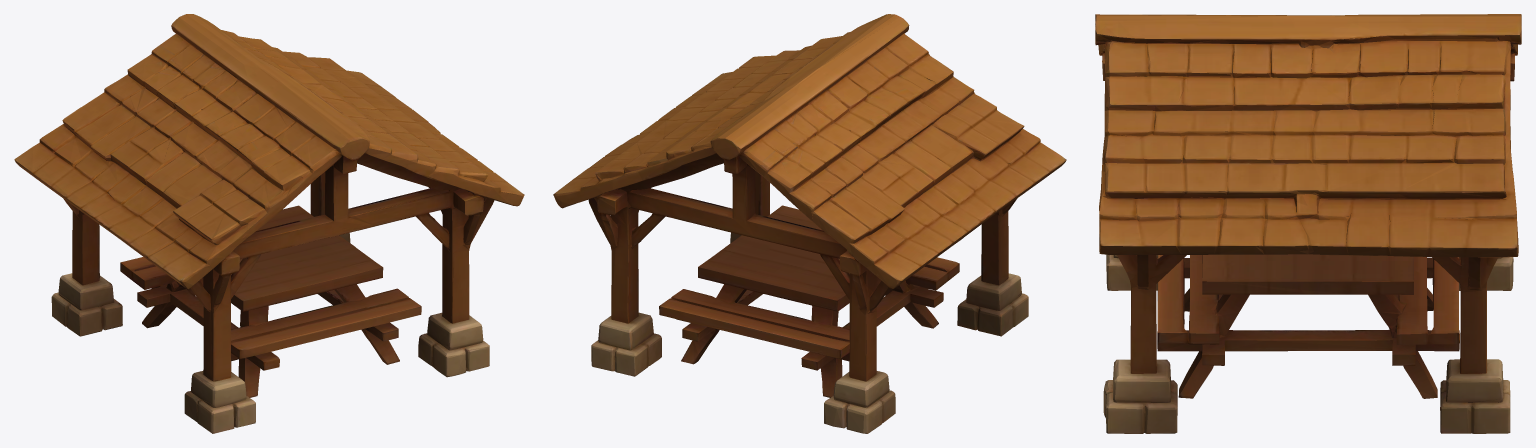
The model's file is picnic_shelter.glb.
The picture shows the model from 3 angles, left to right: view 1: azimuth 30°, elevation 25°; view 2: azimuth 150°, elevation 25°; view 3: azimuth 270°, elevation 25°; orthographic projection. The views are drawn at different scales.
Visible parts, largest first — view 1: world; view 2: world; view 3: world.
Boxes of the visible parts, x1,y1,x2,y2 form: world: (14, 14, 524, 433); world: (553, 14, 1066, 433); world: (1095, 14, 1521, 433).
Bounding box in the file's own units: 1 × 0.7371 × 0.8464.
Materials: 1 (1 with a texture image).
